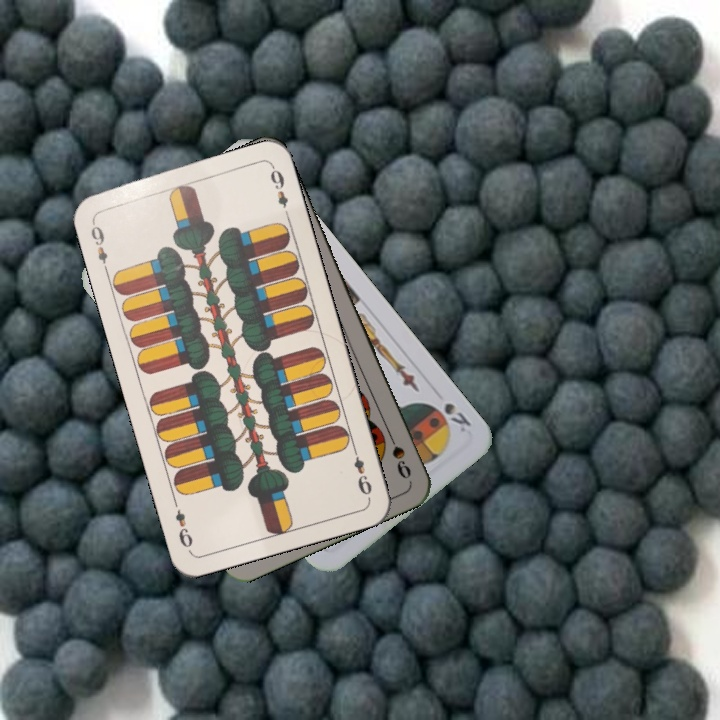E9: (348, 442, 375, 500), (86, 216, 111, 274)
S9: (382, 425, 414, 482)
SK: (440, 398, 474, 435)
